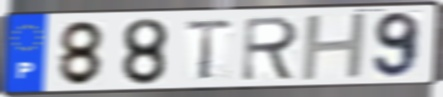8: (120, 16, 170, 87), (57, 19, 106, 88)
9: (371, 9, 425, 81)
H: (298, 10, 371, 84)
R: (239, 14, 302, 83)
T: (183, 17, 237, 83)
